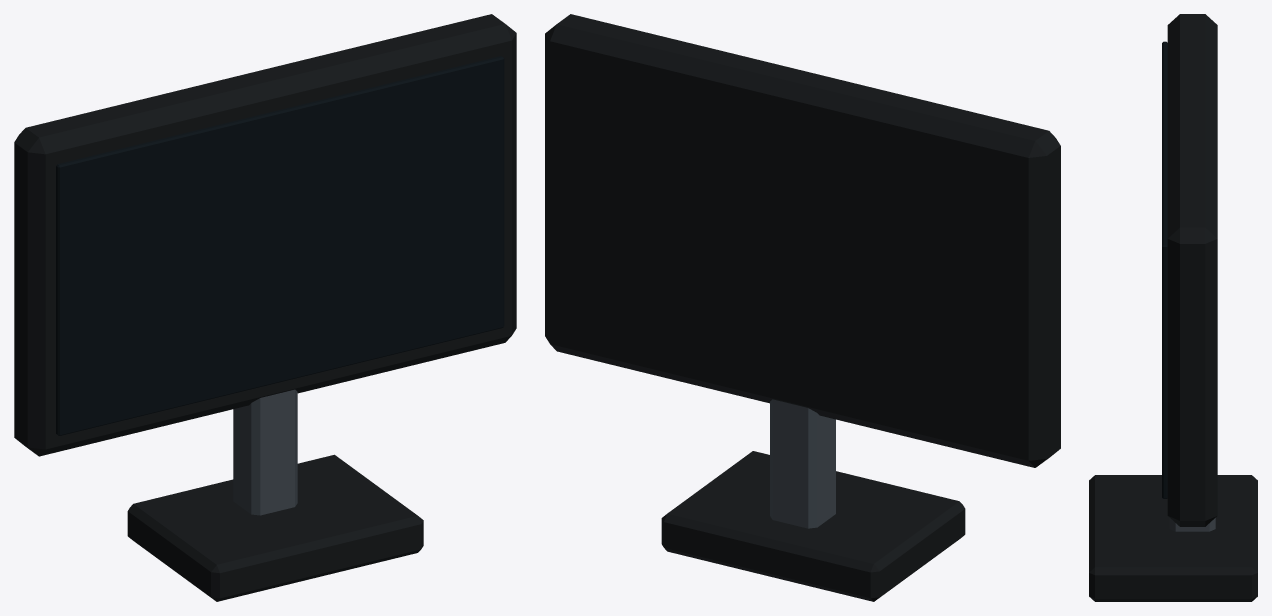
File: Monitor.fbx
3 renders of one model, left to right at view 1: azimuth 30°, elevation 25°; view 2: azimuth 150°, elevation 25°; view 3: azimuth 270°, elevation 25°, orthographic. The views are drawn at different scales.
Parts seen in each view (by area): view 1: Monitor; view 2: Monitor; view 3: Monitor.
Part boxes in pixels (bbox=[...]): Monitor: bbox=[14, 14, 516, 601]; Monitor: bbox=[545, 14, 1060, 601]; Monitor: bbox=[1089, 14, 1257, 601].
Size of the model in its own units: 69 by 62.5 by 22.
Materials: 1 (1 with a texture image).
